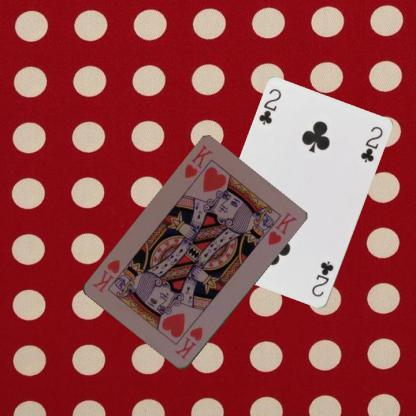2c: (309, 258, 335, 299), (256, 86, 282, 127)
Kh: (181, 143, 214, 180), (172, 324, 204, 361)
